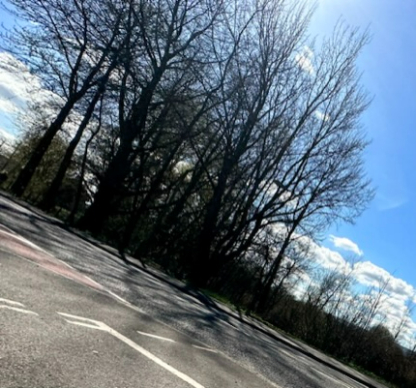tree: (174, 26, 380, 282), (90, 0, 235, 223), (0, 0, 130, 203), (253, 140, 374, 310)
